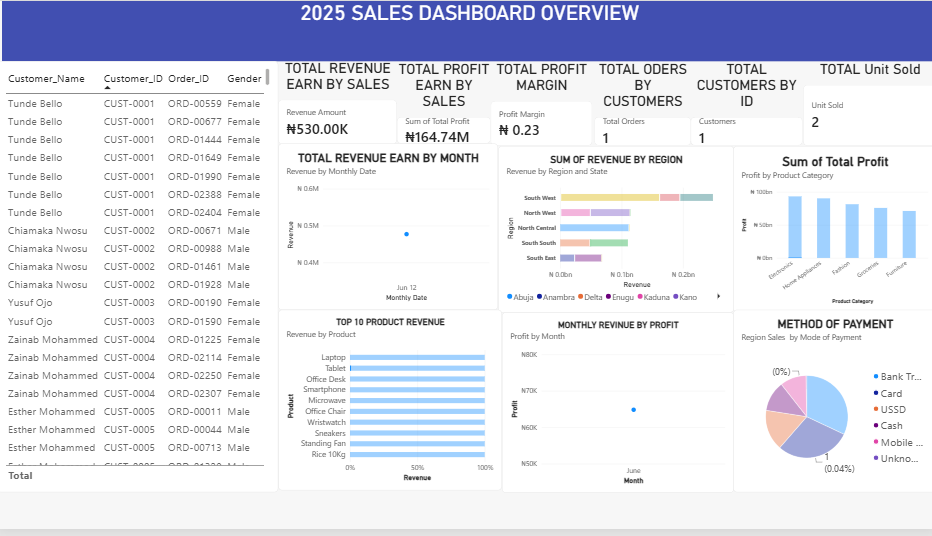

Layout of this report page (visuals, bound fields, positions):
{"tool":"powerbi","page":{"name":"MAIN DASHBORAD","canvas":[1920,1080],"ordinal":2},"visuals":[{"type":"textbox","title":"2025 SALES DASHBOARD  OVERVIEW","box":[10.3,0,1910.1,123.5],"z":0},{"type":"cardVisual","title":"TOTAL REVENUE EARN BY SALES","fields":{"Data":["retail_sales_practice_dataset (2).total revenue"]},"box":[574.3,119.4,242.9,172.9],"z":1},{"type":"cardVisual","title":"TOTAL PROFIT EARN BY SALES","fields":{"Data":["Sum(retail_sales_practice_dataset (2).Total Profit)"]},"box":[817.2,123.5,191.4,168.8],"z":2},{"type":"cardVisual","title":"TOTAL ODERS  BY CUSTOMERS","fields":{"Data":["retail_sales_practice_dataset (2).Total Orders"]},"box":[1220.6,123.5,197.6,172.9],"z":3},{"type":"cardVisual","title":"TOTAL  PROFIT MARGIN","fields":{"Data":["Sum(retail_sales_practice_dataset (2).Profit Margin)"]},"box":[1008.6,123.5,207.9,172.9],"z":4},{"type":"cardVisual","title":"TOTAL CUSTOMERS BY ID","fields":{"Data":["retail_sales_practice_dataset (2).Total Customers"]},"box":[1418.2,123.5,228.5,172.9],"z":5},{"type":"cardVisual","title":"TOTAL Unit  Sold","fields":{"Data":["retail_sales_practice_dataset (2).Total Unit Sold"]},"box":[1646.7,123.5,273.8,172.9],"z":6},{"type":"lineChart","title":"TOTAL REVENUE EARN BY MONTH","fields":{"Category":["retail_sales_practice_dataset (2).Order_Date"],"Y":["Sum(retail_sales_practice_dataset (2).Revenue)"]},"box":[574.3,292.3,448.7,339.6],"z":7},{"type":"barChart","title":"SUM OF REVENUE BY REGION","fields":{"Category":["retail_sales_practice_dataset (2).Region"],"Series":["retail_sales_practice_dataset (2).State"],"Y":["Sum(retail_sales_practice_dataset (2).Revenue)"]},"box":[1023,296.4,481.6,339.6],"z":8},{"type":"columnChart","title":"Sum of Total Profit","fields":{"Category":["retail_sales_practice_dataset (2).Product_Category"],"Y":["Sum(retail_sales_practice_dataset (2).Total Profit)"]},"box":[1504.6,296.4,415.8,339.6],"z":9},{"type":"hundredPercentStackedBarChart","title":"TOP 10 PRODUCT  REVENUE","fields":{"Category":["retail_sales_practice_dataset (2).Product"],"Y":["Sum(retail_sales_practice_dataset (2).Revenue)"]},"box":[574.3,631.9,456.9,368.4],"z":10},{"type":"lineChart","title":"MONTHLY REVINUE BY PROFIT","fields":{"Category":["retail_sales_practice_dataset (2).Order_Date.Variation.Date Hierarchy.Month"],"Y":["Sum(retail_sales_practice_dataset (2).Profit)"]},"box":[1031.2,636,473.4,368.4],"z":11},{"type":"pieChart","title":"METHOD OF PAYMENT ","fields":{"Category":["retail_sales_practice_dataset (2).Payment_Method"],"Y":["CountNonNull(retail_sales_practice_dataset (2).Region)"]},"box":[1504.6,631.9,415.8,372.6],"z":12},{"type":"tableEx","fields":{"Values":["retail_sales_practice_dataset (2).Customer_Name","retail_sales_practice_dataset (2).Customer_ID","retail_sales_practice_dataset (2).Order_ID","retail_sales_practice_dataset (2).Gender"]},"box":[0,123.5,574.3,881],"z":13}]}

Visuals, with their boxes in screenshot pixels (x1, y1, x2, y2), scaled from the page's 1920x1080 canvas onto the 932x536 screenshot:
"2025 SALES DASHBOARD  OVERVIEW" textbox: [left=5, top=0, right=931, bottom=61]
"TOTAL REVENUE EARN BY SALES" cardVisual: [left=279, top=59, right=397, bottom=145]
"TOTAL PROFIT EARN BY SALES" cardVisual: [left=397, top=61, right=490, bottom=145]
"TOTAL ODERS  BY CUSTOMERS" cardVisual: [left=592, top=61, right=688, bottom=147]
"TOTAL  PROFIT MARGIN" cardVisual: [left=490, top=61, right=591, bottom=147]
"TOTAL CUSTOMERS BY ID" cardVisual: [left=688, top=61, right=799, bottom=147]
"TOTAL Unit  Sold" cardVisual: [left=799, top=61, right=931, bottom=147]
"TOTAL REVENUE EARN BY MONTH" lineChart: [left=279, top=145, right=497, bottom=314]
"SUM OF REVENUE BY REGION" barChart: [left=497, top=147, right=730, bottom=316]
"Sum of Total Profit" columnChart: [left=730, top=147, right=931, bottom=316]
"TOP 10 PRODUCT  REVENUE" hundredPercentStackedBarChart: [left=279, top=314, right=501, bottom=496]
"MONTHLY REVINUE BY PROFIT" lineChart: [left=501, top=316, right=730, bottom=498]
"METHOD OF PAYMENT " pieChart: [left=730, top=314, right=931, bottom=499]
tableEx - retail_sales_practice_dataset (2).Customer_Name x retail_sales_practice_dataset (2).Customer_ID: [left=0, top=61, right=279, bottom=499]
